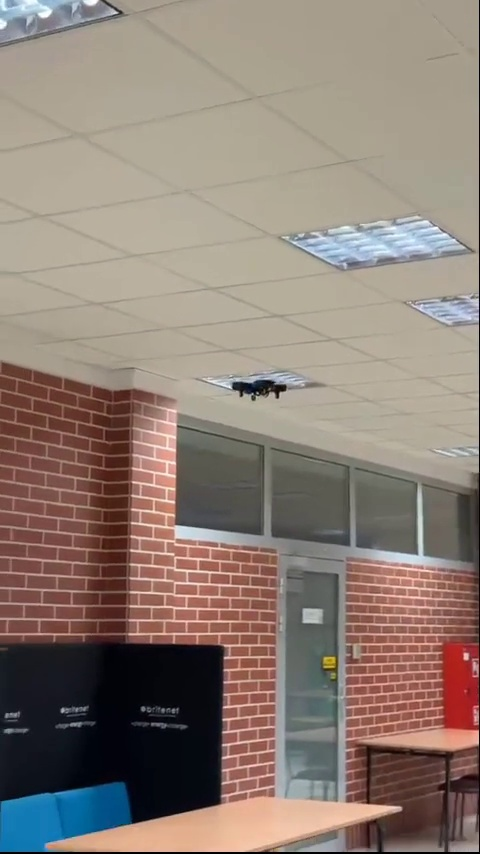drone: (235, 379, 287, 397)
